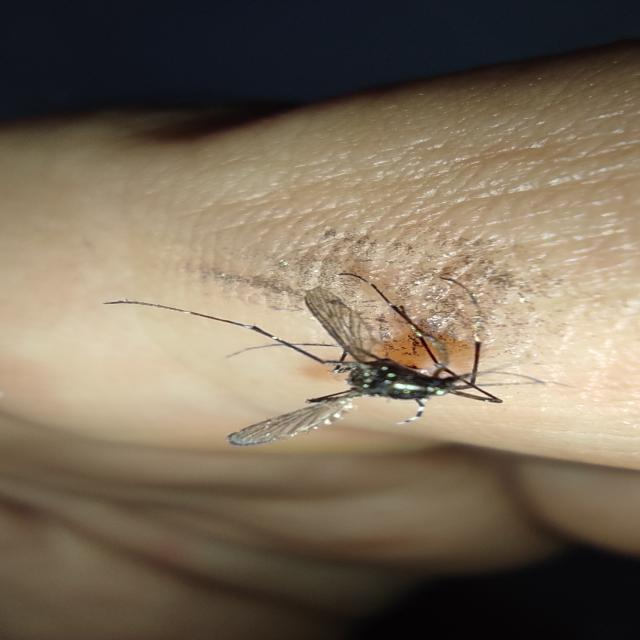albopictus: (96, 265, 542, 441)
